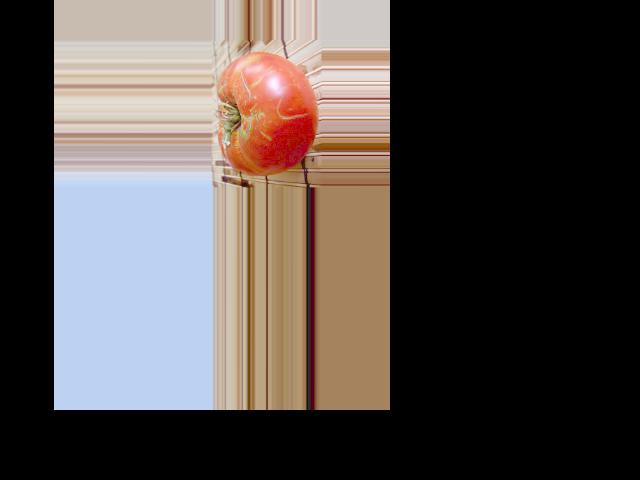tomato: (217, 52, 317, 176)
